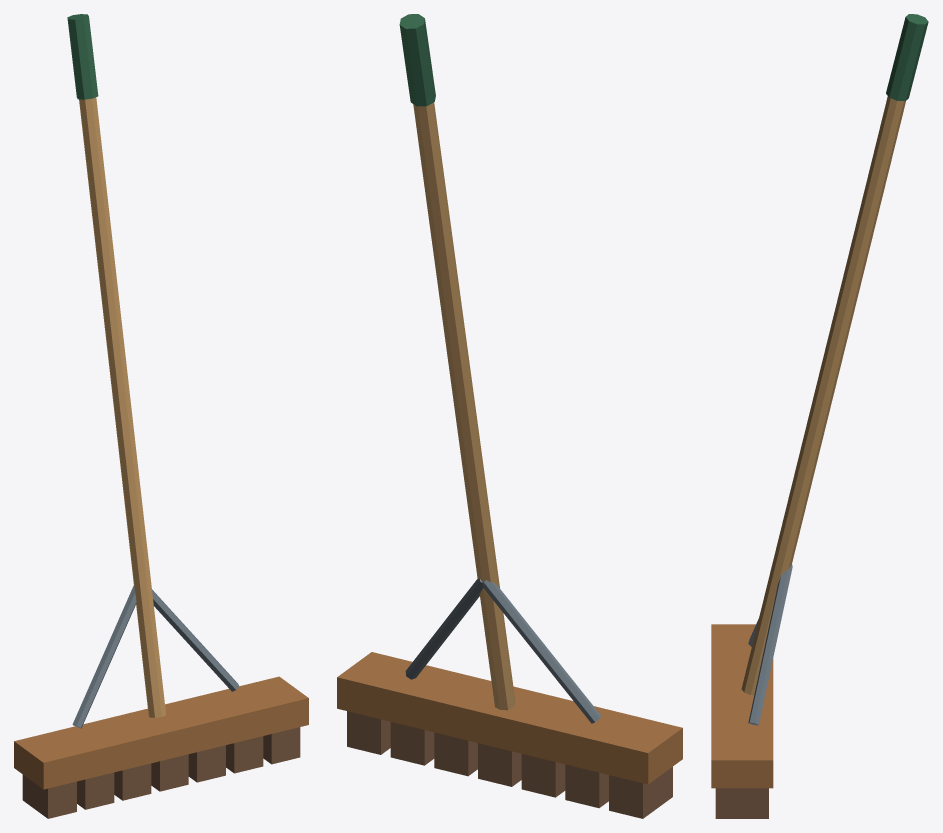
File: b04_wide_street_push_broom.glb
3 renders of one model, left to right at view 1: azimuth 30°, elevation 25°; view 2: azimuth 150°, elevation 25°; view 3: azimuth 270°, elevation 25°, orthographic. The views are drawn at different scales.
Parts seen in each view (by area): view 1: b04_wide_street_push_broom; view 2: b04_wide_street_push_broom; view 3: b04_wide_street_push_broom.
Part boxes in pixels (<box>): b04_wide_street_push_broom: <box>14,14,308,818</box>; b04_wide_street_push_broom: <box>337,14,682,818</box>; b04_wide_street_push_broom: <box>711,14,928,818</box>.
Size of the model in its own units: 0.57 by 1.44 by 0.3855.
